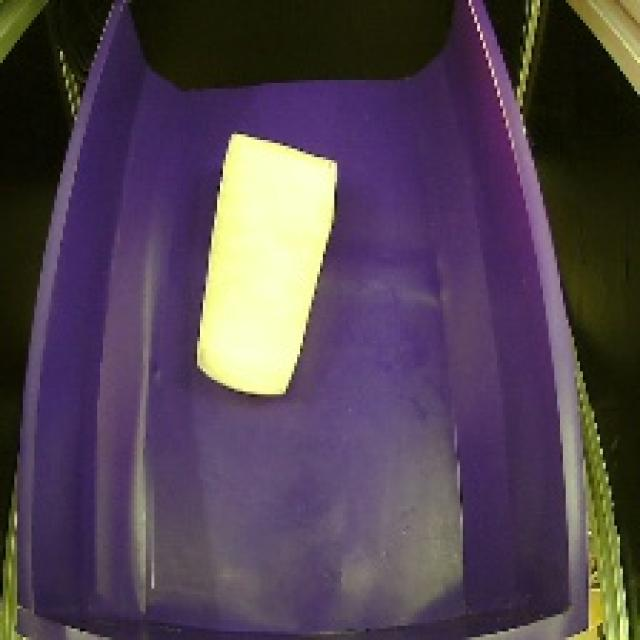white_radish: (184, 118, 353, 400)
